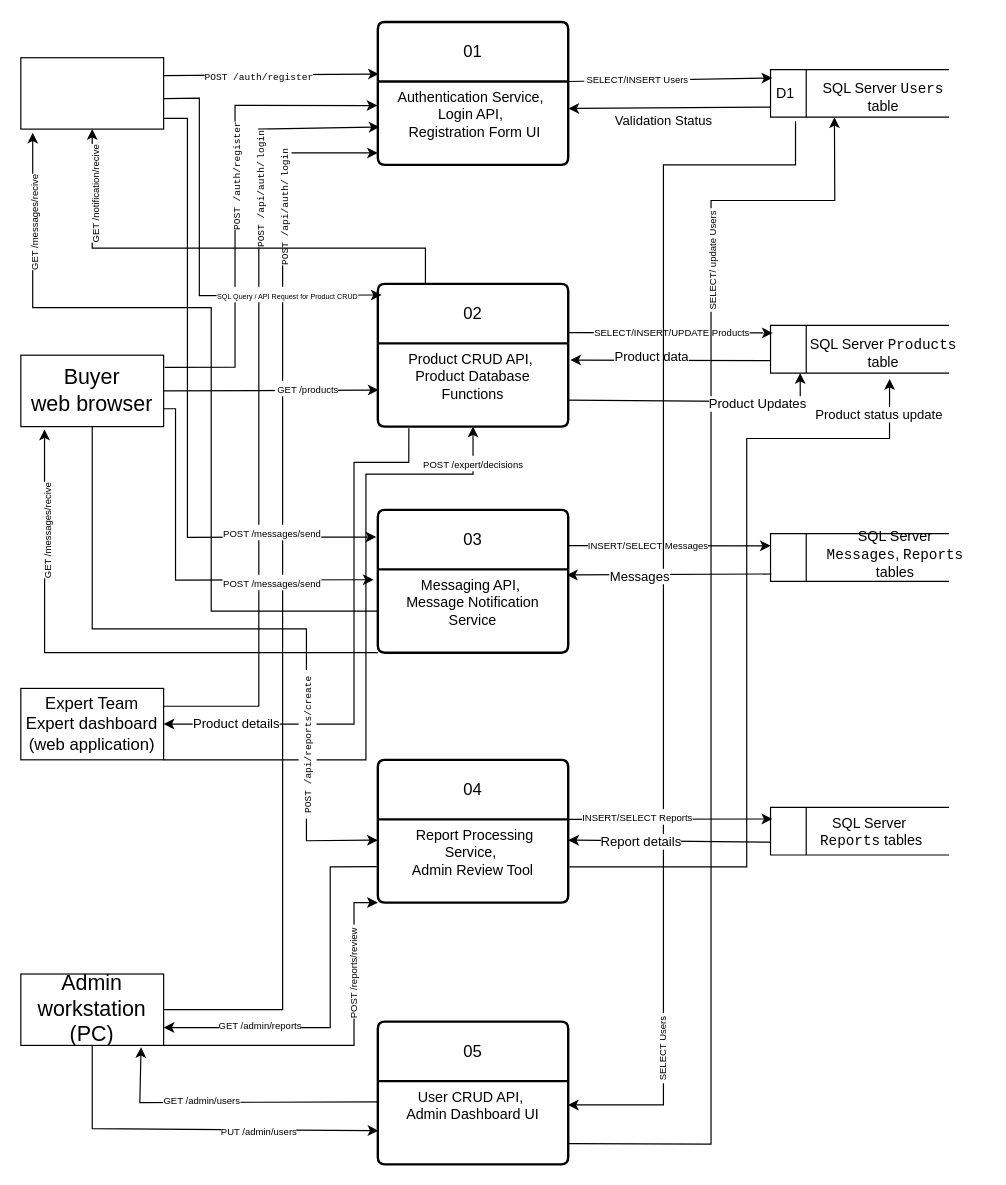
Some shapes in this 1006 by 1185 pixel diagram are drawn without their labels. Each missing label, with the box of its shape:
D2: (769, 324, 949, 373)
D3: (769, 533, 949, 581)
D4: (769, 806, 949, 855)
Farmer web browser: (20, 57, 164, 129)
